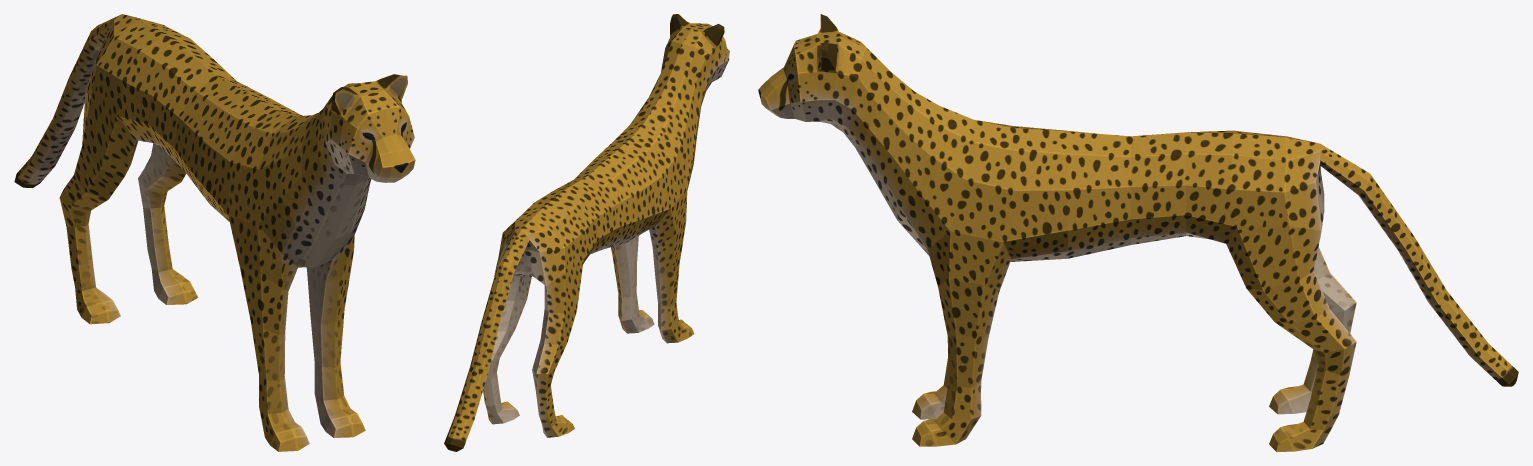
Rendered from Cheetah.obj.
3 renders of one model, left to right at view 1: azimuth 30°, elevation 25°; view 2: azimuth 150°, elevation 25°; view 3: azimuth 270°, elevation 25°, orthographic. The views are drawn at different scales.
Parts seen in each view (by area): view 1: Cheetah_mesh; view 2: Cheetah_mesh; view 3: Cheetah_mesh.
Boxes of the visible parts, x1,y1,x2,y2 form: Cheetah_mesh: (14, 14, 415, 451); Cheetah_mesh: (444, 14, 729, 451); Cheetah_mesh: (758, 14, 1518, 451).
Size of the model in its own units: 2.03 by 7.05 by 12.26.
1 material, 1 textured.
